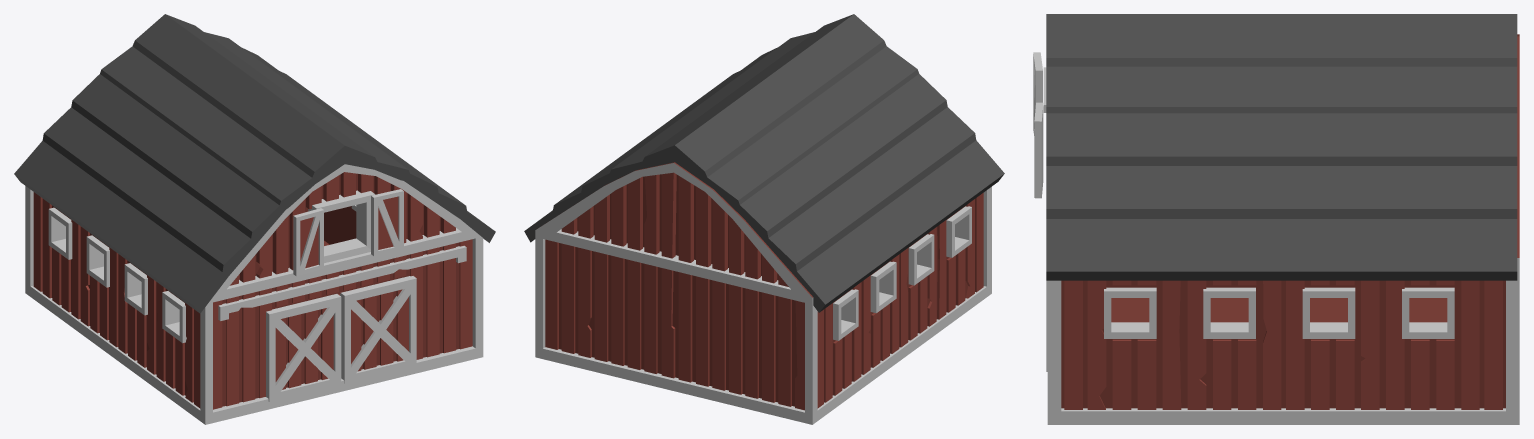
The model's file is horse_barn.glb.
The picture shows the model from 3 angles, left to right: view 1: azimuth 30°, elevation 25°; view 2: azimuth 150°, elevation 25°; view 3: azimuth 270°, elevation 25°; orthographic projection. The views are drawn at different scales.
Parts seen in each view (by area): view 1: Barn_Cube.005, Barn_Door_Cube.002, Barn_Door2_Cube.007, Barn_Window_Cube, Barn_Window2_Cube.014; view 2: Barn_Cube.005; view 3: Barn_Cube.005, Barn_Window_Cube, Barn_Window2_Cube.014.
Boxes of the visible parts, box(x1,y1,x2,y2) form: Barn_Cube.005: box(14, 14, 495, 424); Barn_Door_Cube.002: box(340, 276, 416, 383); Barn_Door2_Cube.007: box(266, 294, 341, 401); Barn_Window_Cube: box(371, 189, 403, 256); Barn_Window2_Cube.014: box(293, 208, 323, 276); Barn_Cube.005: box(524, 14, 1004, 424); Barn_Cube.005: box(1043, 14, 1519, 424); Barn_Window_Cube: box(1034, 102, 1043, 198); Barn_Window2_Cube.014: box(1033, 52, 1042, 135).
Bounding box in the file's own units: 7.73 × 6.01 × 8.22.
